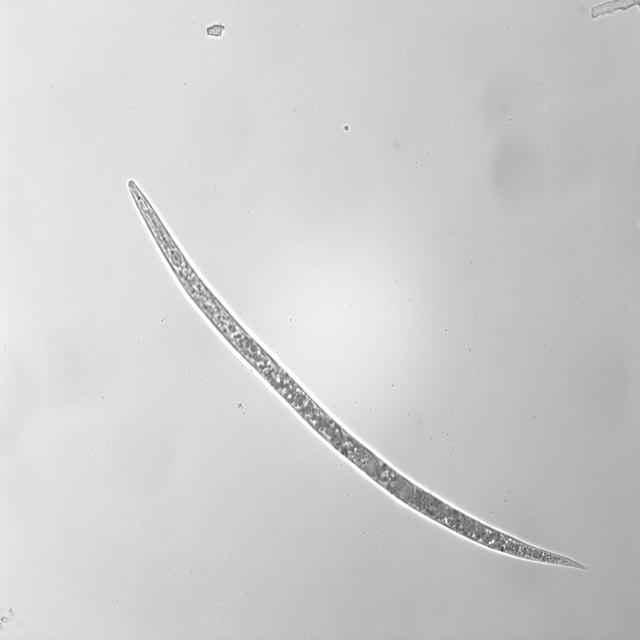Meloidogyne: (123, 172, 592, 574)
